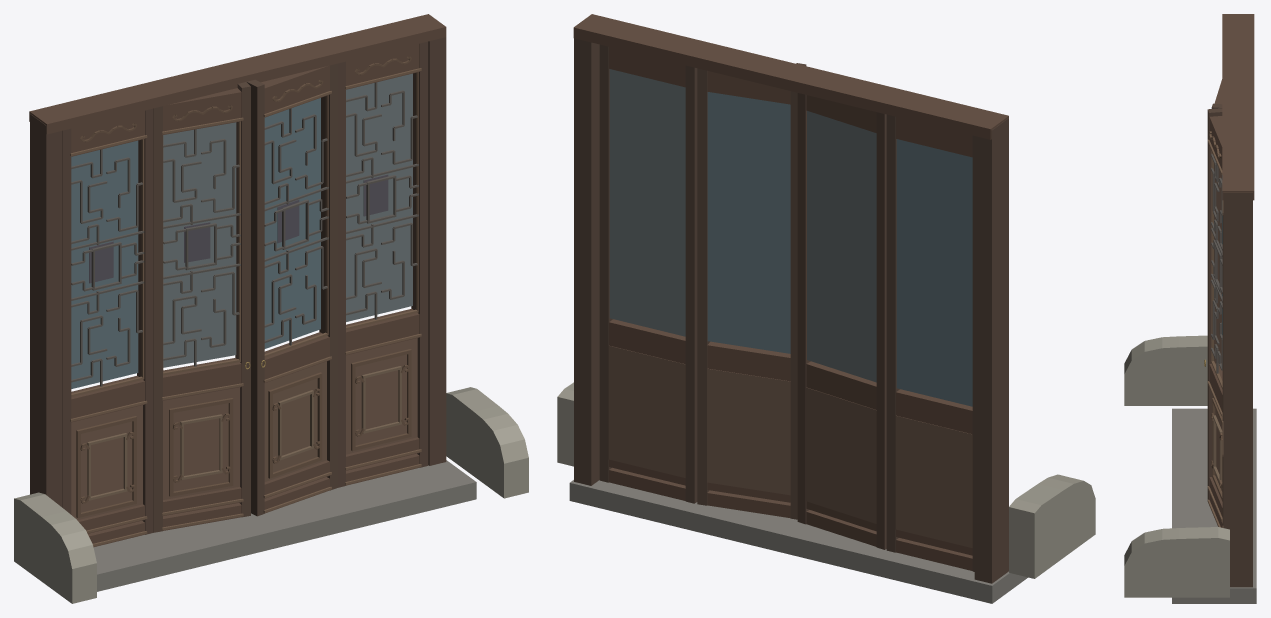
File: pudong-yuda-store-number-169-four-glazed-doors-web.glb
3 renders of one model, left to right at view 1: azimuth 30°, elevation 25°; view 2: azimuth 150°, elevation 25°; view 3: azimuth 270°, elevation 25°, orthographic. The views are drawn at different scales.
Parts seen in each view (by area): view 1: 裕大南货店新场大街169号四扇木门与石门枕; view 2: 裕大南货店新场大街169号四扇木门与石门枕; view 3: 裕大南货店新场大街169号四扇木门与石门枕.
Part boxes in pixels (box(x1,y1,x2,y2)): 裕大南货店新场大街169号四扇木门与石门枕: box(14, 14, 528, 603); 裕大南货店新场大街169号四扇木门与石门枕: box(557, 14, 1095, 603); 裕大南货店新场大街169号四扇木门与石门枕: box(1124, 14, 1256, 603).
Bounding box in the file's own units: 2.48 × 2.35 × 0.685.
